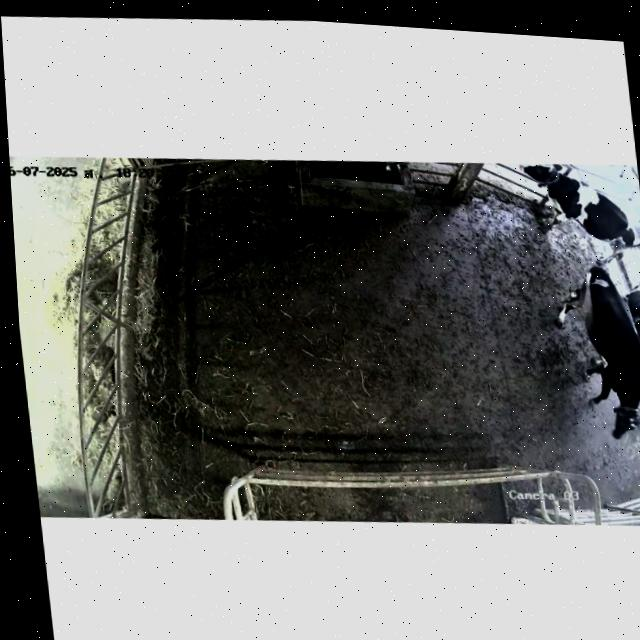stand: (543, 257, 640, 447), (514, 157, 640, 272)
